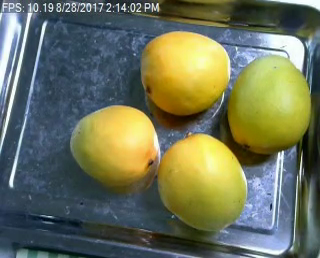Mango: (229, 54, 312, 155), (159, 132, 244, 230), (140, 32, 229, 116), (69, 105, 158, 186)
